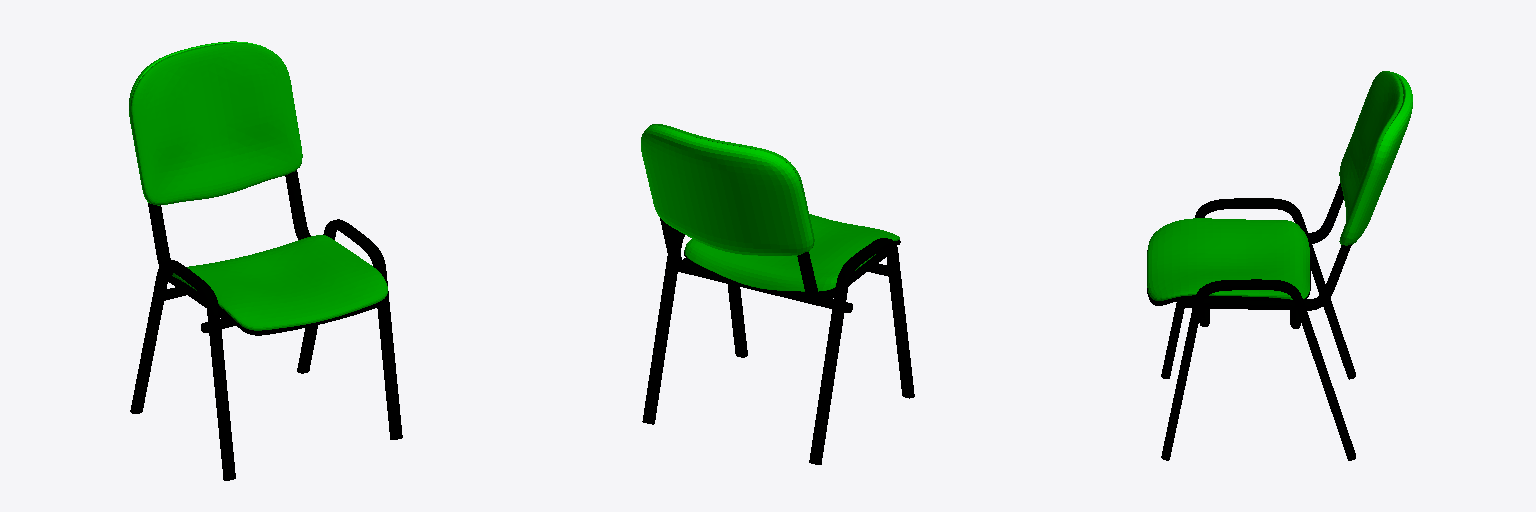
File: cadeira-verde.obj
3 renders of one model, left to right at view 1: azimuth 30°, elevation 25°; view 2: azimuth 150°, elevation 25°; view 3: azimuth 270°, elevation 25°, orthographic.
Visible parts, largest first — view 1: Chair_BackCushion.001, Chair_SeatCushion, Chair_RightLeg, Chair_LeftLeg, Chair_Right, Chair_Left, Chair_SeatPlastic; view 2: Chair_BackPlastic, Chair_SeatCushion, Chair_RightLeg, Chair_LeftLeg, Chair_Right, Chair_Back, Chair_Left; view 3: Chair_SeatCushion, Chair_BackCushion.001, Chair_LeftLeg, Chair_RightLeg, Chair_BackPlastic, Chair_Left, Chair_Right, Chair_SeatPlastic.
Boxes of the visible parts, x1,y1,x2,y2 form: Chair_BackCushion.001: [131, 43, 302, 204]; Chair_SeatCushion: [172, 235, 387, 330]; Chair_RightLeg: [130, 260, 235, 480]; Chair_LeftLeg: [297, 219, 402, 439]; Chair_Right: [148, 203, 235, 325]; Chair_Left: [285, 170, 310, 239]; Chair_SeatPlastic: [172, 276, 388, 335]; Chair_BackPlastic: [641, 125, 812, 255]; Chair_SeatCushion: [684, 214, 899, 291]; Chair_RightLeg: [809, 238, 914, 464]; Chair_LeftLeg: [642, 229, 747, 424]; Chair_Right: [797, 250, 885, 305]; Chair_Back: [678, 265, 852, 312]; Chair_Left: [660, 218, 695, 271]; Chair_SeatCushion: [1147, 218, 1309, 300]; Chair_BackCushion.001: [1339, 71, 1403, 244]; Chair_LeftLeg: [1161, 279, 1355, 460]; Chair_RightLeg: [1161, 198, 1355, 379]; Chair_BackPlastic: [1344, 71, 1412, 245]; Chair_Left: [1182, 244, 1351, 310]; Chair_Right: [1306, 183, 1343, 243]; Chair_SeatPlastic: [1147, 233, 1310, 305].
Bounding box in the file's own units: 1.51 × 2.57 × 1.92.